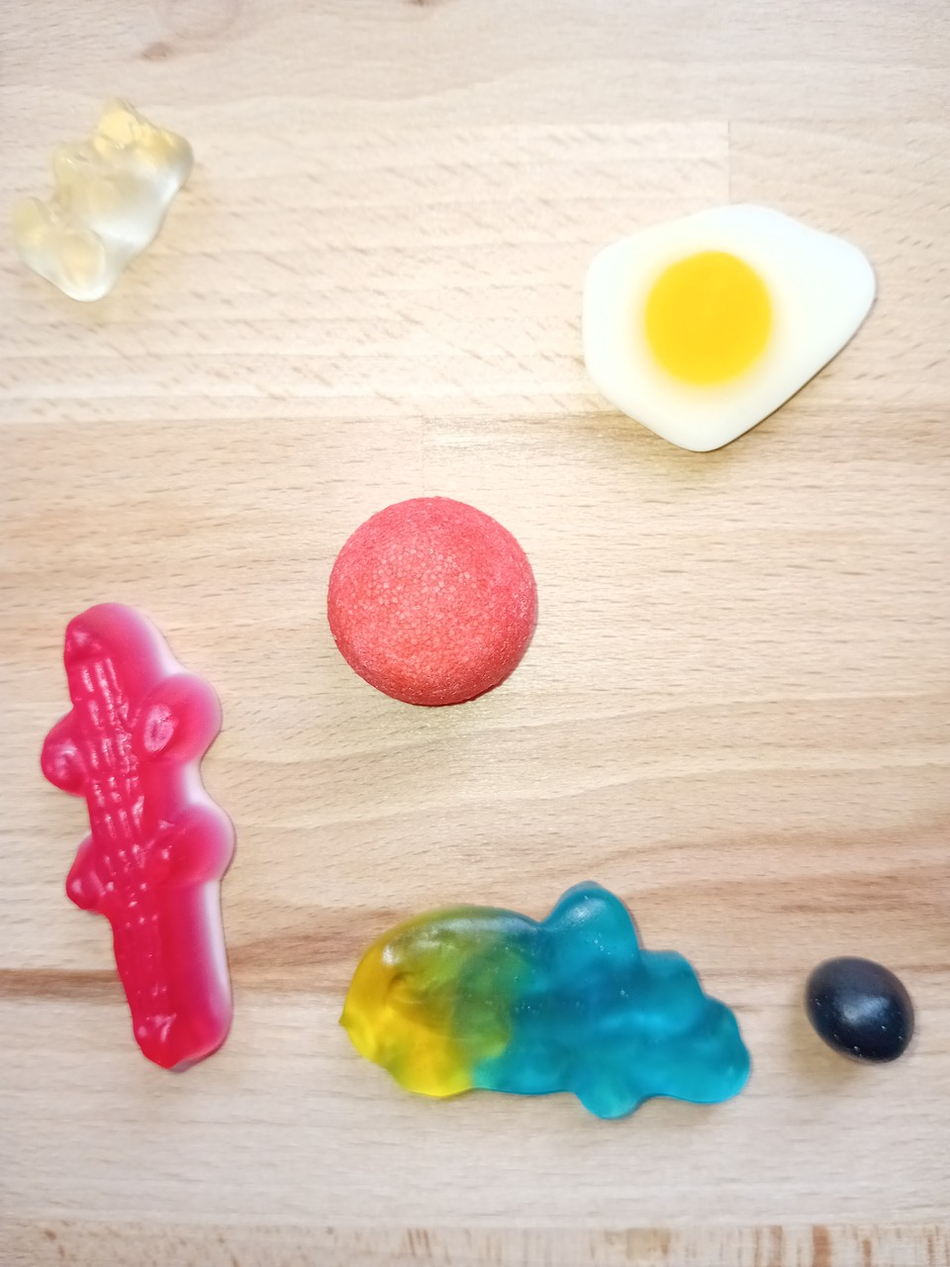crocodile_rouge: (41, 594, 245, 1078)
dragibus_noir: (799, 950, 921, 1074)
oeuf_oeuf: (576, 198, 880, 455)
ourson_blanc: (13, 90, 198, 306)
schtroumpf_bleu-jaune: (338, 871, 757, 1134)
tagada_fraise: (318, 490, 549, 711)
